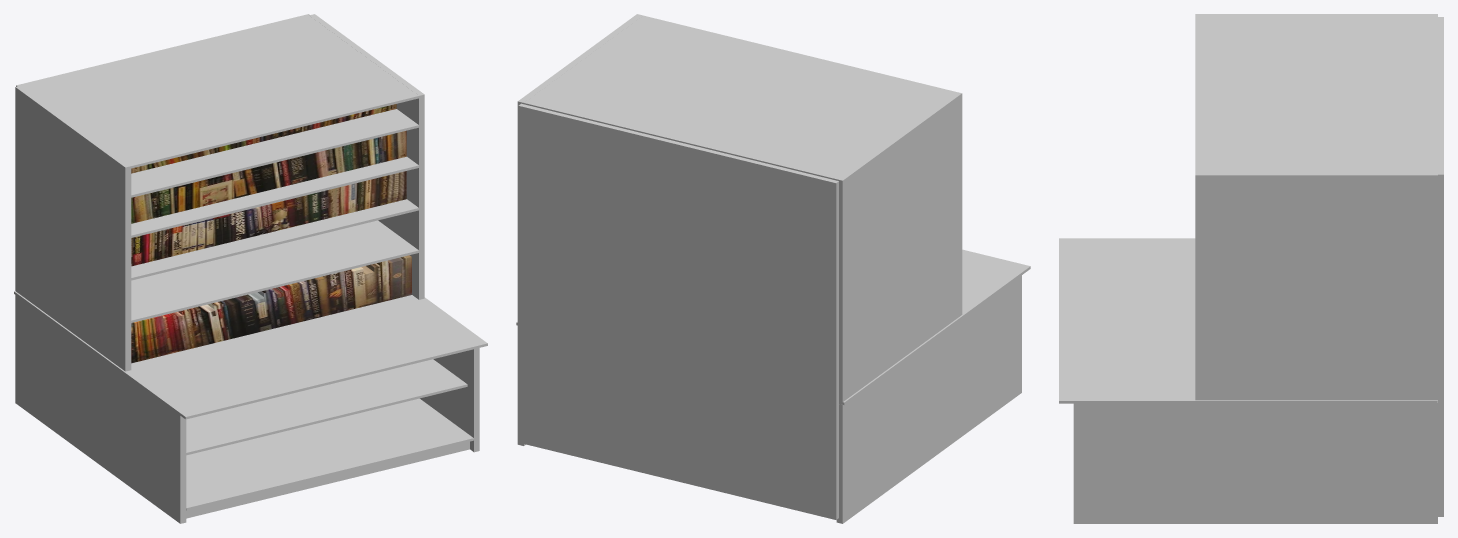
The model's file is sh-kl-full-bookcase.glb.
3 views of the same model, side by side, from view 1: azimuth 30°, elevation 25°; view 2: azimuth 150°, elevation 25°; view 3: azimuth 270°, elevation 25° (orthographic). The views are drawn at different scales.
Parts seen in each view (by area): view 1: Bookcase, Books_4, Books_3, Books_2, Books_1; view 2: Bookcase; view 3: Bookcase.
Boxes of the visible parts, x1,y1,x2,y2 form: Bookcase: (14, 14, 487, 523); Books_4: (131, 255, 411, 363); Books_3: (131, 171, 406, 266); Books_2: (131, 130, 406, 223); Books_1: (131, 104, 396, 173); Bookcase: (516, 14, 1030, 523); Bookcase: (1059, 14, 1443, 523).
Bounding box in the file's own units: 1 × 1 × 1.
Materials: 5 (4 with a texture image).
